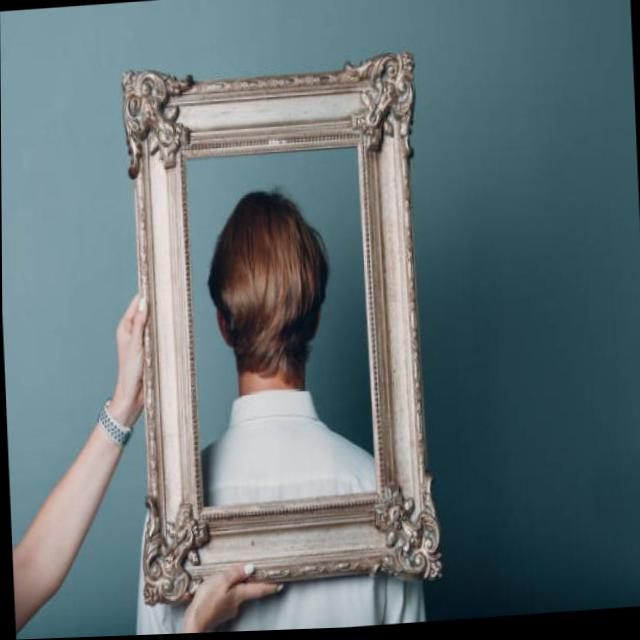no helmet: (206, 189, 331, 411)
